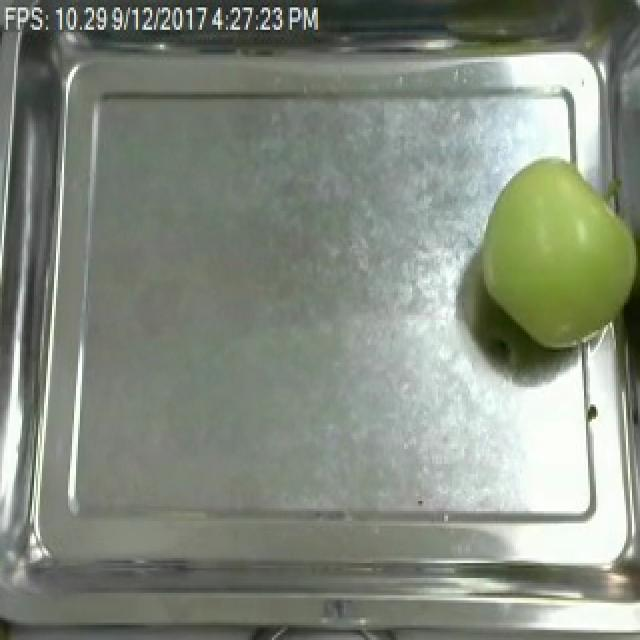50-_ripeness: (473, 144, 640, 357)
